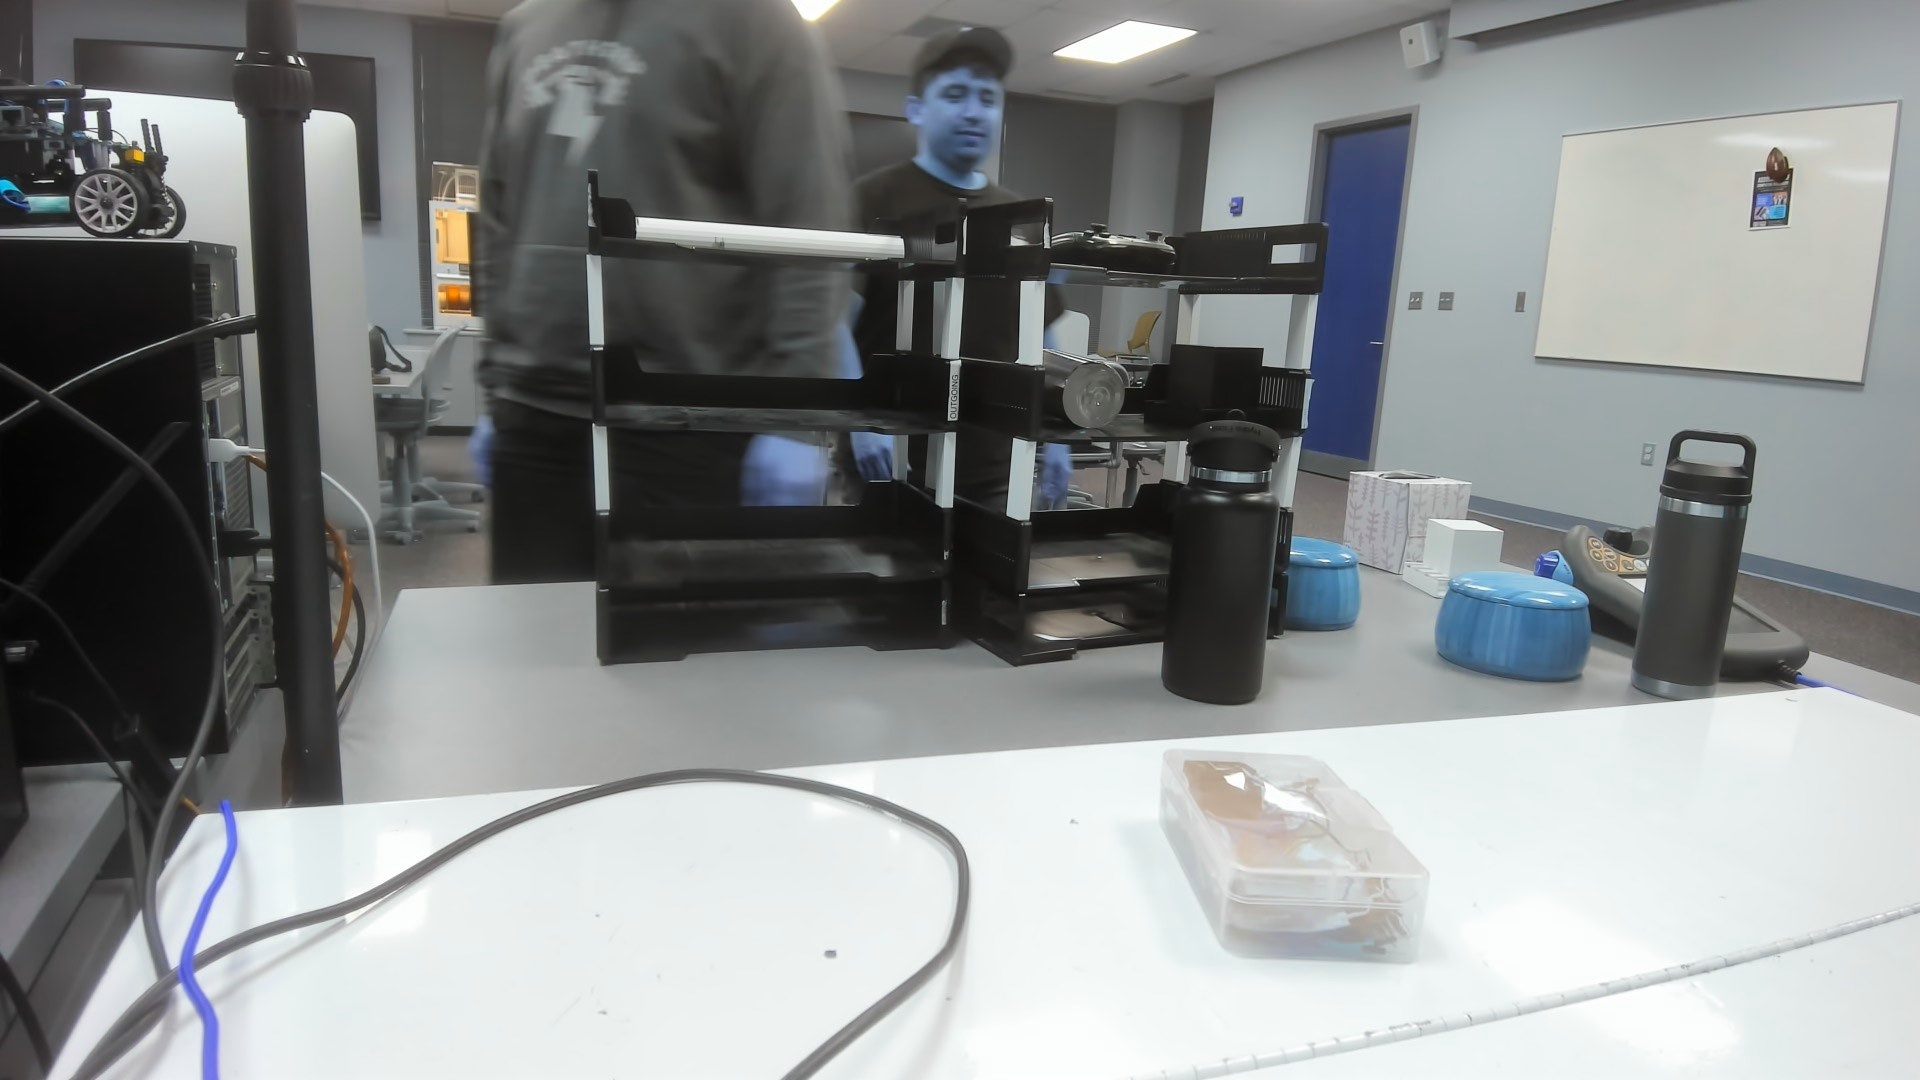black pallet: (1141, 342, 1276, 433)
white pallet: (1398, 514, 1510, 601)
